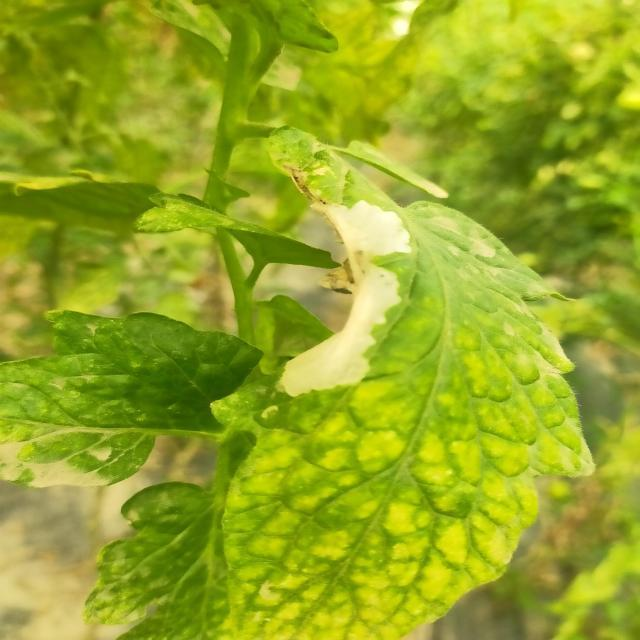Tuta absoluta: (278, 191, 419, 413)
